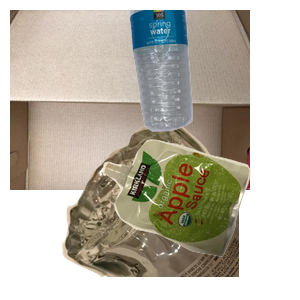cardboard: (10, 10, 250, 190)
glass: (60, 120, 300, 300)
plastic: (127, 10, 300, 134)
trash: (100, 137, 300, 300)
